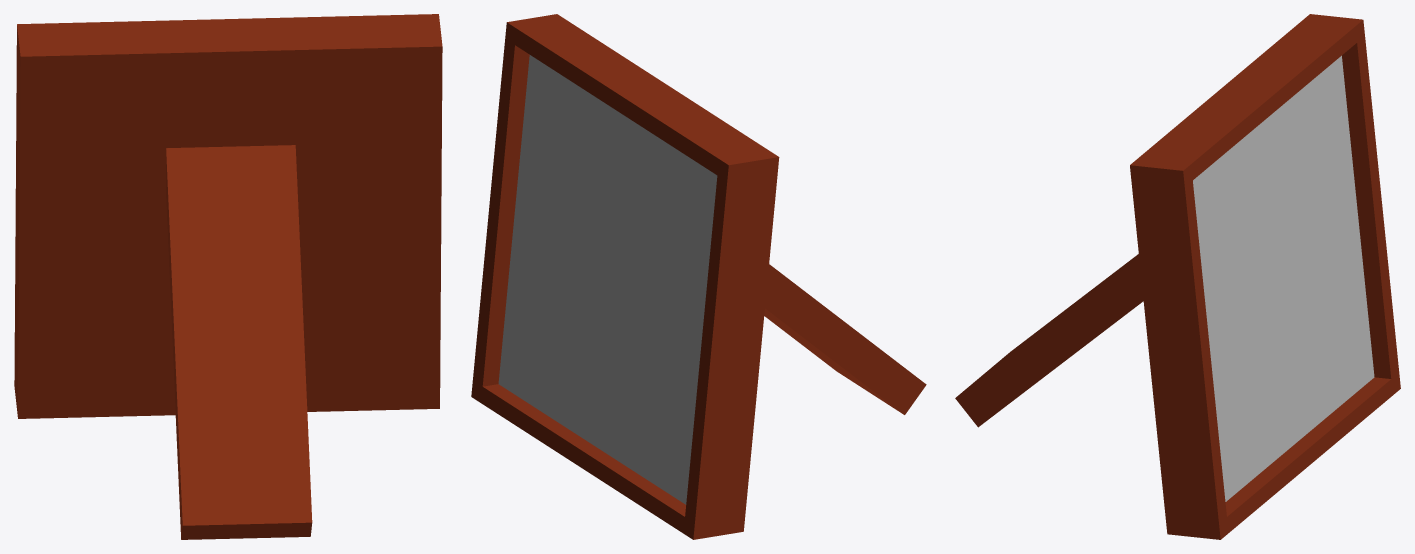
File: Picture.obj
3 renders of one model, left to right at view 1: azimuth 30°, elevation 25°; view 2: azimuth 150°, elevation 25°; view 3: azimuth 270°, elevation 25°, orthographic. The views are drawn at different scales.
Parts seen in each view (by area): view 1: PortaRetratos; view 2: PortaRetratos; view 3: PortaRetratos.
Boxes of the visible parts, box(x1,y1,x2,y2) form: PortaRetratos: box(14, 14, 442, 539); PortaRetratos: box(471, 14, 926, 539); PortaRetratos: box(955, 14, 1400, 539).
Size of the model in its own units: 1.08 by 1.08 by 1.19.
